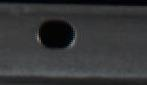holes: (35, 16, 79, 50)
